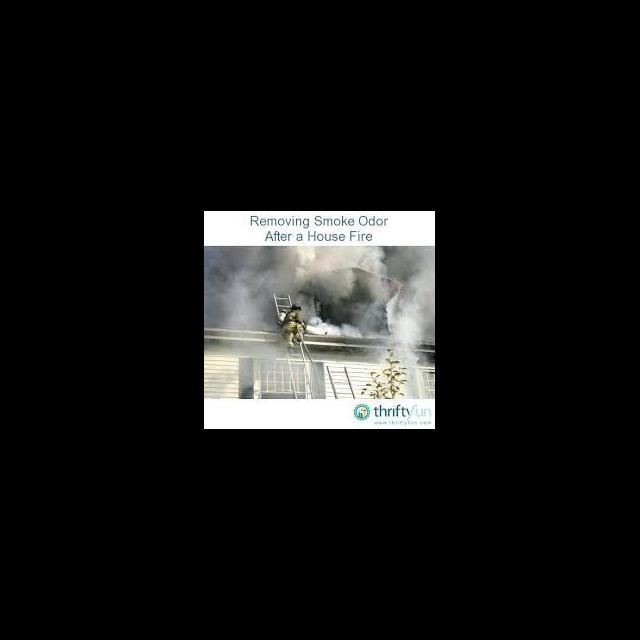Smoke: (204, 247, 434, 340)
